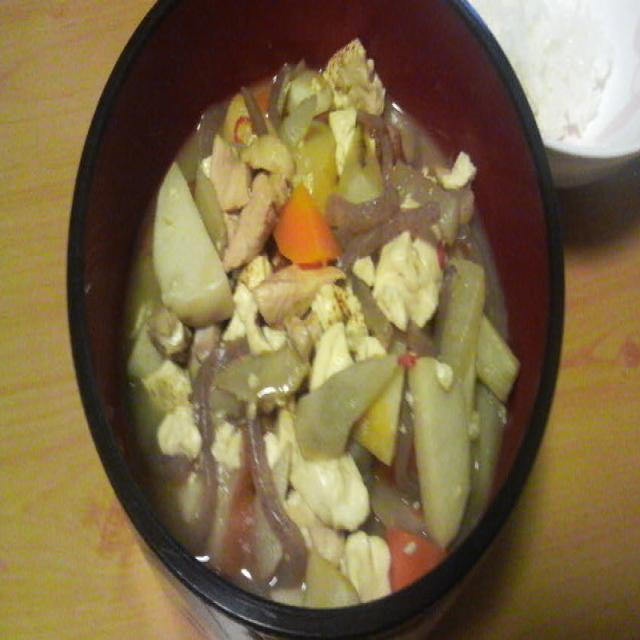Rice: (524, 0, 634, 129)
